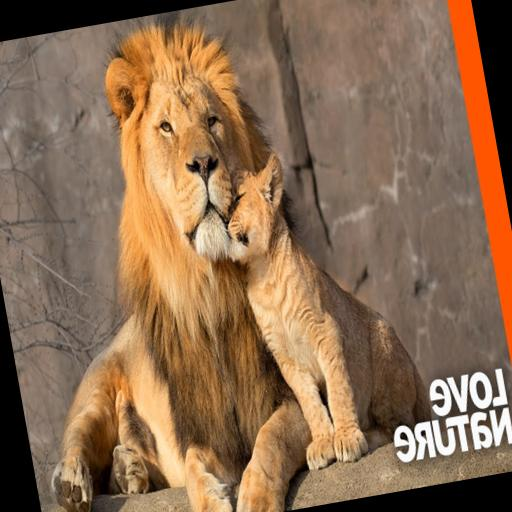lions: (0, 0, 442, 512)
